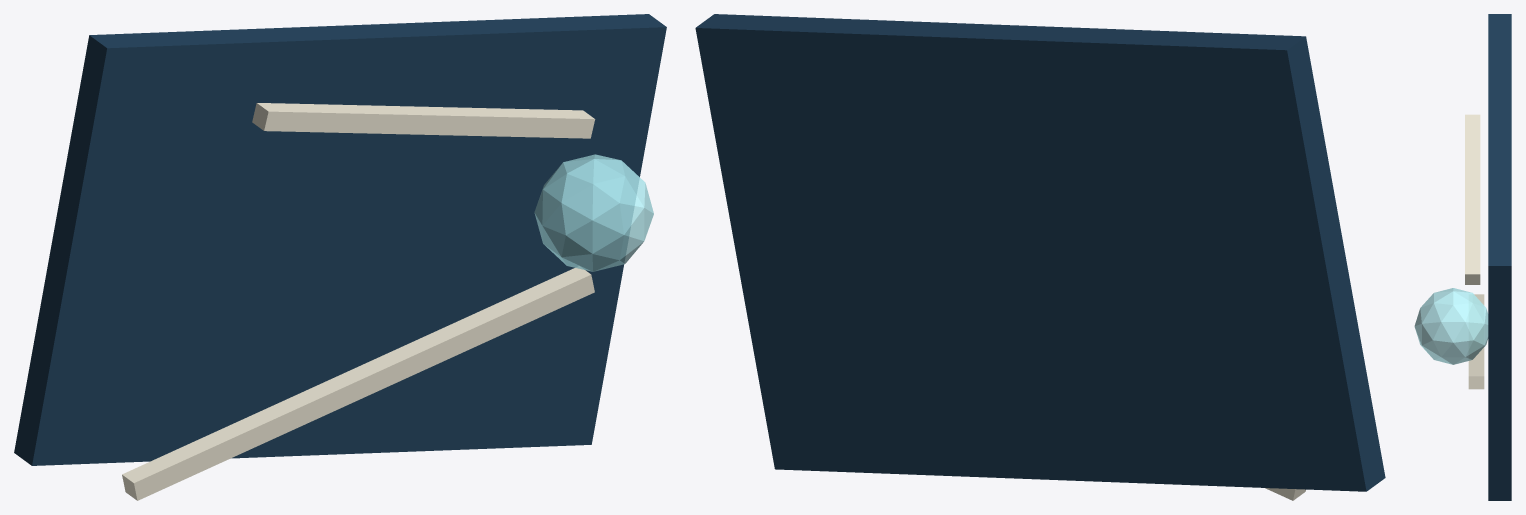
Rendered from 02_world_prop_polish.glb.
The picture shows the model from 3 angles, left to right: view 1: azimuth 30°, elevation 25°; view 2: azimuth 150°, elevation 25°; view 3: azimuth 270°, elevation 25°; orthographic projection. The views are drawn at different scales.
Parts seen in each view (by area): view 1: object_overlay_plate, edge_wear_a, glow_socket, edge_wear_b; view 2: object_overlay_plate; view 3: object_overlay_plate, glow_socket, edge_wear_b, edge_wear_a.
Boxes of the visible parts, x1=… form: object_overlay_plate: x1=14, y1=14, x2=666, y2=465; edge_wear_a: x1=122, y1=266, x2=594, y2=500; glow_socket: x1=534, y1=154, x2=653, y2=271; edge_wear_b: x1=252, y1=103, x2=595, y2=138; object_overlay_plate: x1=695, y1=14, x2=1385, y2=491; object_overlay_plate: x1=1488, y1=14, x2=1511, y2=500; glow_socket: x1=1414, y1=288, x2=1488, y2=364; edge_wear_b: x1=1465, y1=114, x2=1480, y2=284; edge_wear_a: x1=1468, y1=294, x2=1484, y2=389.
Size of the model in its own units: 1.22 by 0.9485 by 0.25.
